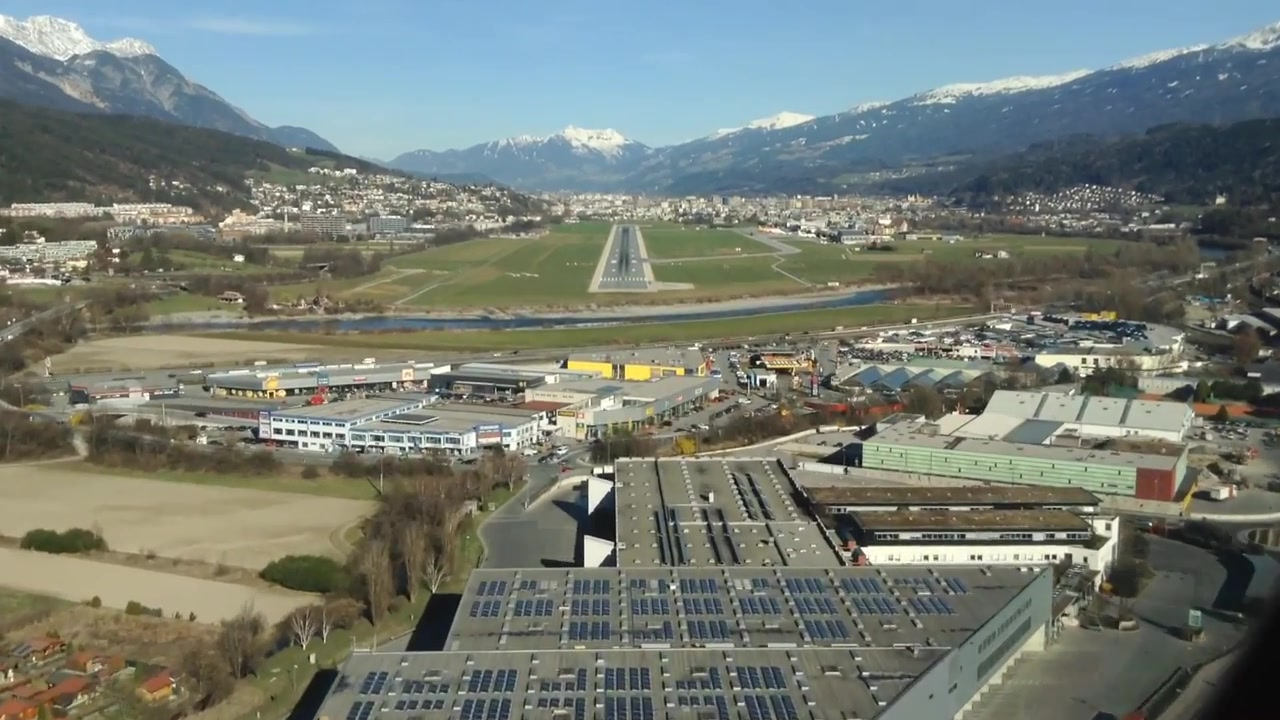entrance: (599, 276, 646, 281)
runway: (596, 226, 649, 289)
